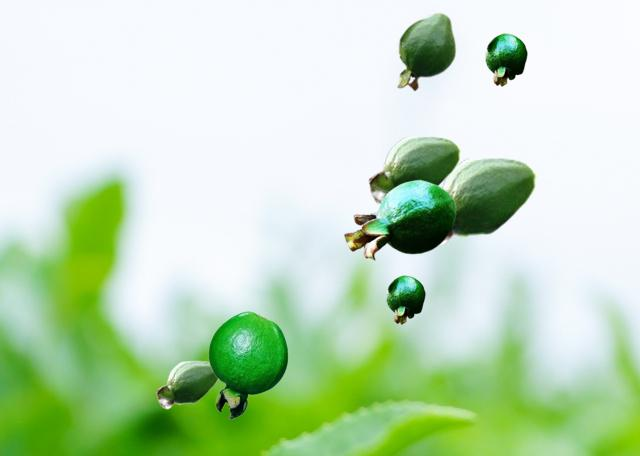guava: (344, 179, 455, 259), (440, 156, 536, 245), (208, 311, 287, 418), (368, 135, 460, 205), (396, 11, 455, 91), (156, 360, 218, 408), (485, 33, 526, 85), (386, 275, 424, 323)
